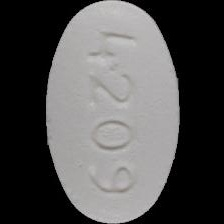53217-012: (0, 0, 224, 224)
